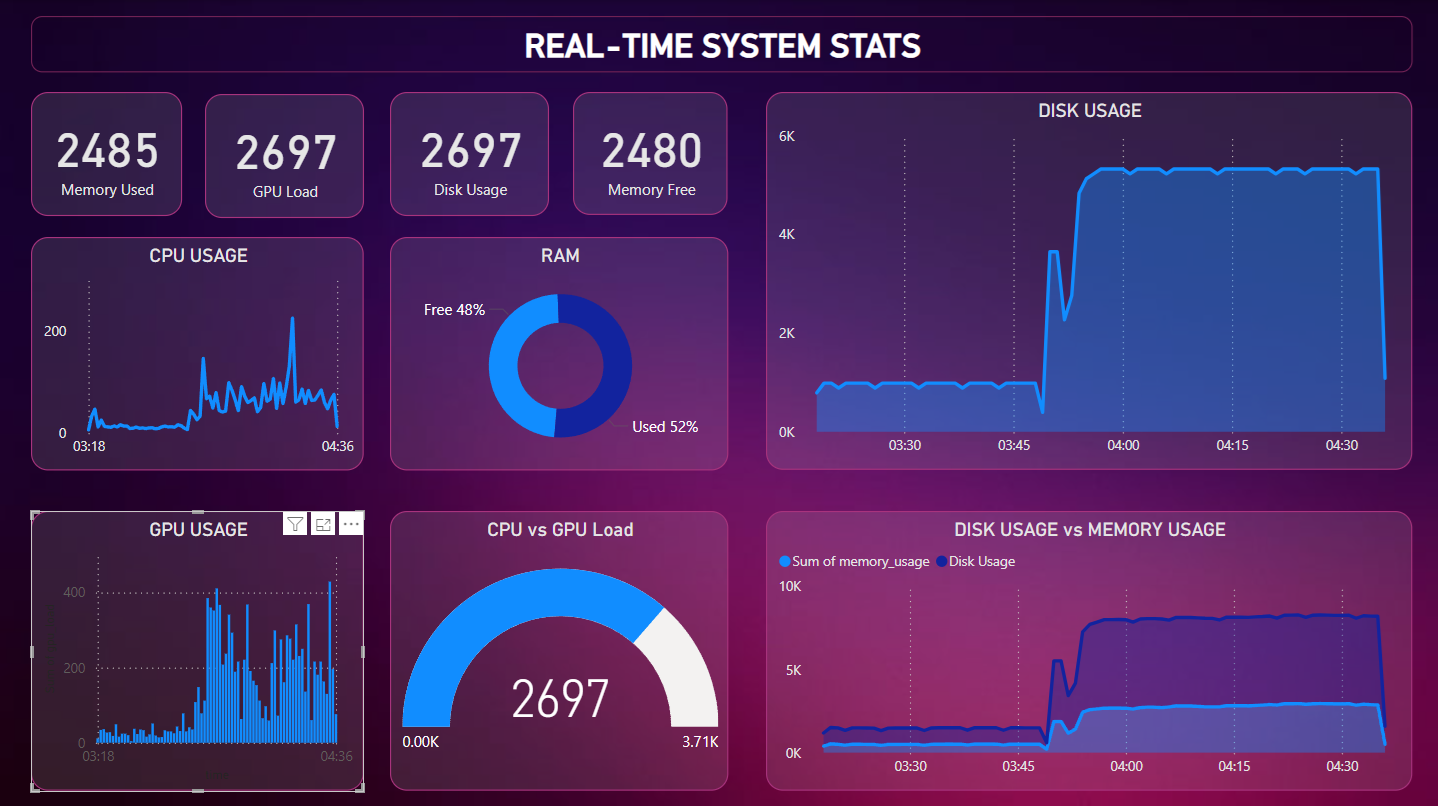

What the dashboard file says about the page in this screenshot:
{"tool":"powerbi","page":{"name":"REAL-TIME SYSTEM STATS","canvas":[1280,720],"ordinal":1},"visuals":[{"type":"stackedAreaChart","title":"DISK USAGE","fields":{"Category":["system_stats performance.time"],"Y":["Sum(system_stats performance.disk_usage)"]},"box":[681.4,82,572.9,335.3],"z":0},{"type":"donutChart","title":"RAM ","fields":{"Y":["Sum(system_stats performance.memory_free)","Sum(system_stats performance.memory_used)"]},"box":[347.3,209.8,300.3,207.4],"z":1000},{"type":"gauge","title":"CPU vs GPU Load","fields":{"MaxValue":["Sum(system_stats performance.cpu_usage)"],"Y":["CountNonNull(system_stats performance.gpu_load)"]},"box":[347.3,453.5,300.3,248.4],"z":2000},{"type":"card","fields":{"Values":["Count(system_stats performance.memory_used)"]},"box":[28.9,82,133.9,109.7],"z":3000},{"type":"card","fields":{"Values":["Sum(system_stats performance.gpu_load)"]},"box":[183.3,83.2,141.1,109.7],"z":4000},{"type":"card","fields":{"Values":["CountNonNull(system_stats performance.disk_usage)"]},"box":[347.3,82,141.1,109.7],"z":5000},{"type":"card","fields":{"Values":["CountNonNull(system_stats performance.memory_free)"]},"box":[510.2,82,137.5,108.5],"z":6000},{"type":"lineChart","title":"CPU USAGE","fields":{"Category":["system_stats performance.time"],"Y":["Sum(system_stats performance.cpu_usage)"]},"box":[28.9,209.8,295.5,207.4],"z":7000},{"type":"clusteredColumnChart","title":"GPU USAGE","fields":{"Y":["Sum(system_stats performance.gpu_load)"],"Category":["system_stats performance.time"]},"box":[28.9,453.5,295.5,248.4],"z":8000},{"type":"textbox","box":[29.3,14.2,1224.5,49.7],"z":9000},{"type":"stackedAreaChart","title":"DISK USAGE vs MEMORY USAGE","fields":{"Y":["Sum(system_stats performance.memory_usage)","Sum(system_stats performance.disk_usage)"],"Category":["system_stats performance.time"]},"box":[681,453.1,572.8,248.3],"z":10000}]}

Visuals, with their boxes in screenshot pixels (x1, y1, x2, y2), scaled from the page's 1280x720 canvas onto the 1438x806 screenshot:
"DISK USAGE" stackedAreaChart: left=766, top=92, right=1409, bottom=467
"RAM " donutChart: left=390, top=235, right=728, bottom=467
"CPU vs GPU Load" gauge: left=390, top=508, right=728, bottom=786
card - Count(system_stats performance.memory_used): left=32, top=92, right=183, bottom=215
card - Sum(system_stats performance.gpu_load): left=206, top=93, right=364, bottom=216
card - CountNonNull(system_stats performance.disk_usage): left=390, top=92, right=549, bottom=215
card - CountNonNull(system_stats performance.memory_free): left=573, top=92, right=728, bottom=213
"CPU USAGE" lineChart: left=32, top=235, right=364, bottom=467
"GPU USAGE" clusteredColumnChart: left=32, top=508, right=364, bottom=786
textbox: left=33, top=16, right=1409, bottom=72
"DISK USAGE vs MEMORY USAGE" stackedAreaChart: left=765, top=507, right=1409, bottom=785
